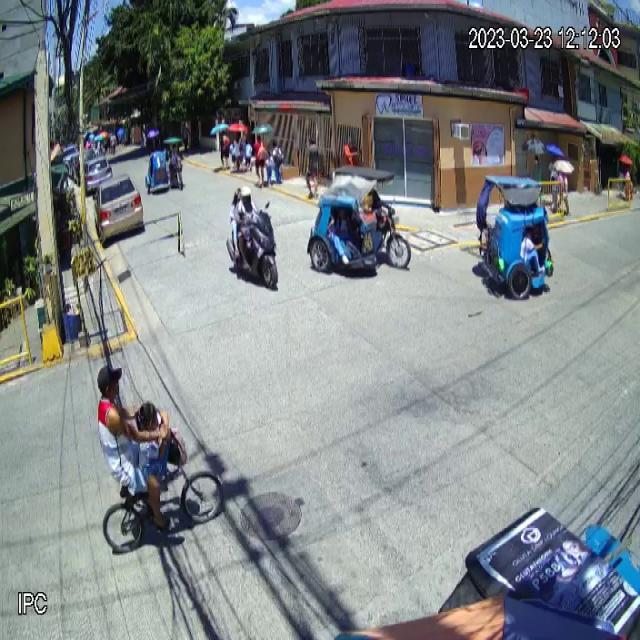Tricycle: (306, 164, 413, 288), (472, 172, 556, 304)
